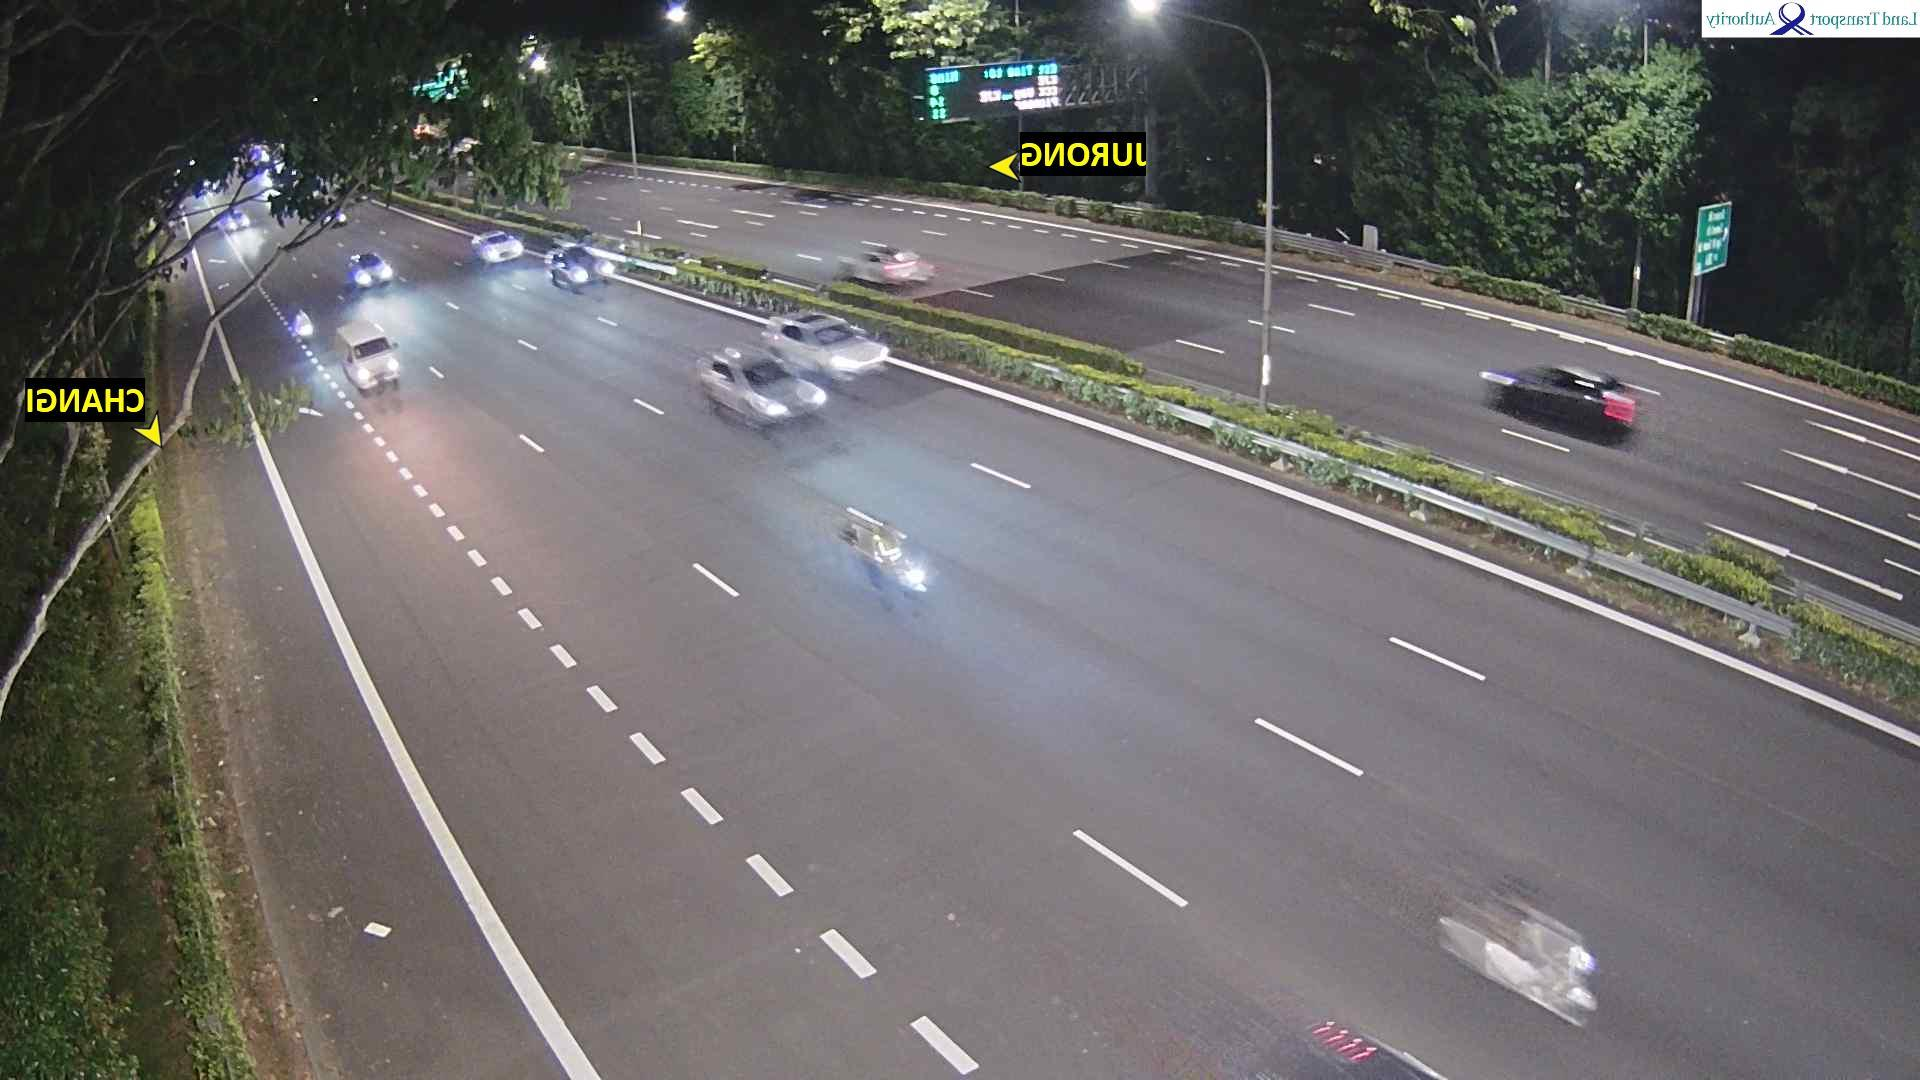incoming: (732, 352, 818, 430), (806, 313, 882, 378), (344, 331, 407, 396), (556, 244, 616, 290), (477, 229, 524, 270), (351, 251, 393, 293), (290, 309, 315, 348)
